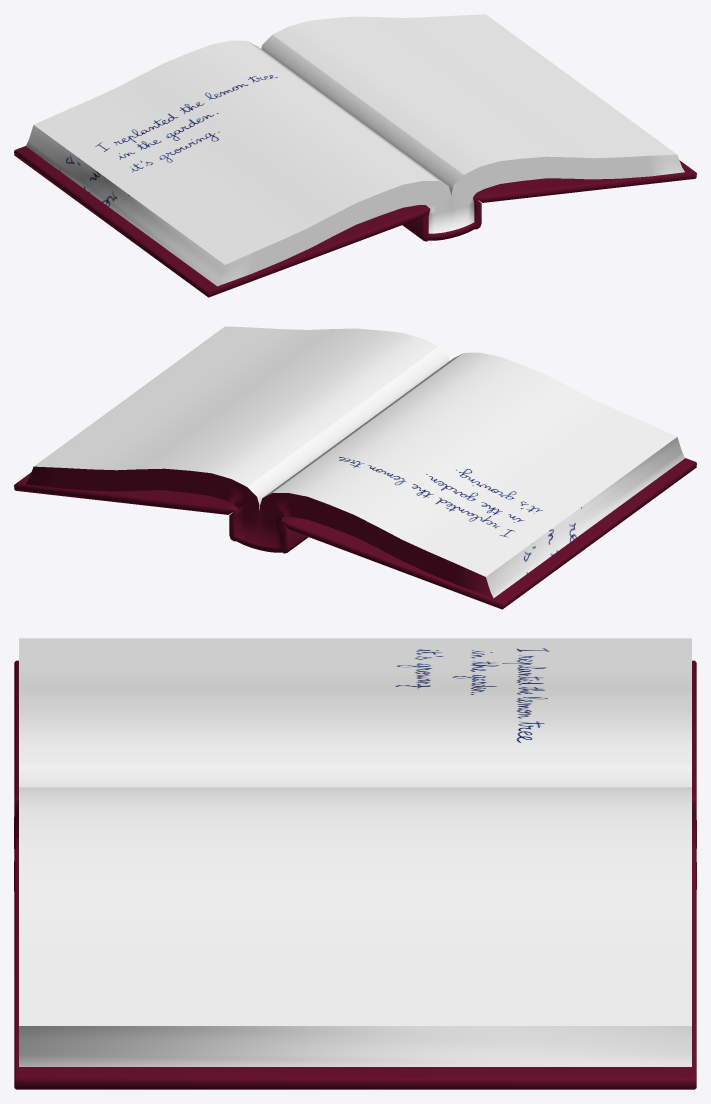
The model's file is diario_future_eng.glb.
The picture shows the model from 3 angles, top to bottom: view 1: azimuth 30°, elevation 25°; view 2: azimuth 150°, elevation 25°; view 3: azimuth 270°, elevation 25°; orthographic projection. The views are drawn at different scales.
Parts seen in each view (by area): view 1: diario-future-eng; view 2: diario-future-eng; view 3: diario-future-eng.
Part boxes in pixels (bbox=[...]): diario-future-eng: bbox=[14, 14, 696, 297]; diario-future-eng: bbox=[14, 326, 696, 609]; diario-future-eng: bbox=[14, 638, 696, 1089].
Bounding box in the file's own units: 1.25 × 0.1611 × 0.8617.
2 materials, 1 textured.
